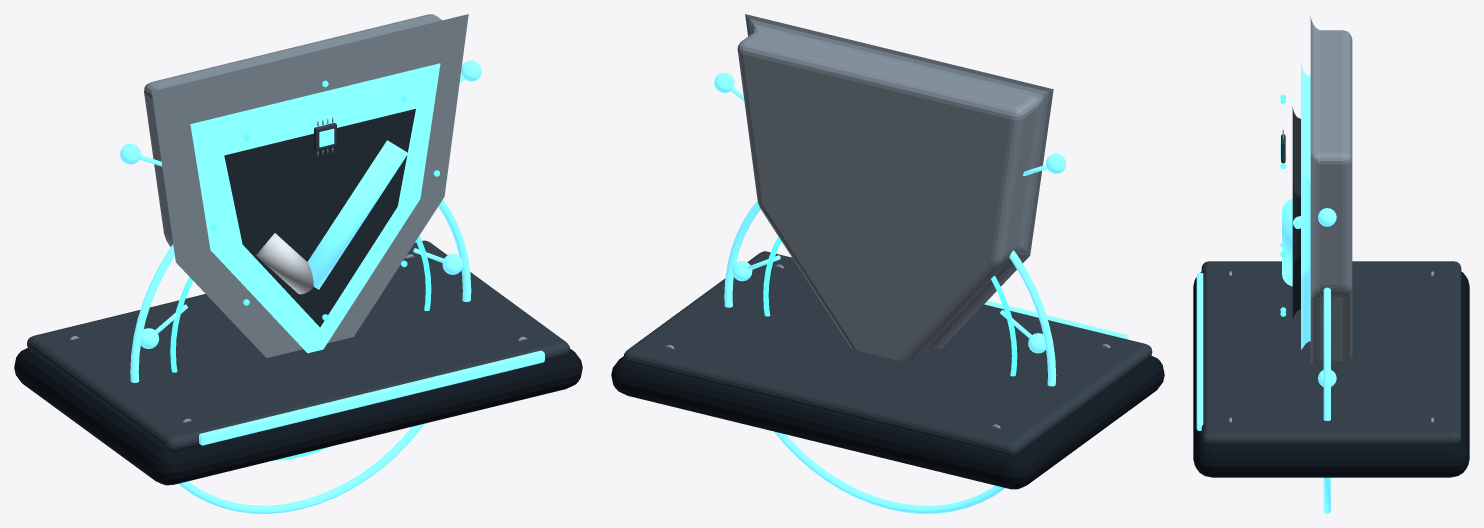
File: Identity.glb
3 views of the same model, side by side, from view 1: azimuth 30°, elevation 25°; view 2: azimuth 150°, elevation 25°; view 3: azimuth 270°, elevation 25° (orthographic). The views are drawn at different scales.
Visible parts, largest first — view 1: Identity_Base1, Identity_Outer, Identity_Mid, Identity_Base0, Identity_Inner, Identity_VerifyRingA, Identity_FrontGlow, Identity_CheckB, Identity_CheckA, Identity_VerifyRingB; view 2: Identity_Outer, Identity_Base1, Identity_Base0, Identity_VerifyRingA, Identity_VerifyRingB, Identity_FrontGlow; view 3: Identity_Base1, Identity_Outer, Identity_Base0, Identity_Mid, Identity_Inner, Identity_VerifyRingA, Identity_FrontGlow, Identity_CheckB.
Part boxes in pixels (x1=…): Identity_Base1: x1=27, y1=240, x2=569, y2=451; Identity_Outer: x1=144, y1=14, x2=468, y2=357; Identity_Mid: x1=190, y1=63, x2=440, y2=353; Identity_Base0: x1=14, y1=348, x2=582, y2=485; Identity_Inner: x1=224, y1=109, x2=415, y2=327; Identity_VerifyRingA: x1=130, y1=199, x2=471, y2=513; Identity_FrontGlow: x1=199, y1=350, x2=544, y2=445; Identity_CheckB: x1=307, y1=140, x2=408, y2=289; Identity_CheckA: x1=256, y1=233, x2=313, y2=294; Identity_VerifyRingB: x1=170, y1=236, x2=431, y2=460; Identity_Outer: x1=737, y1=14, x2=1053, y2=360; Identity_Base1: x1=623, y1=251, x2=1152, y2=456; Identity_Base0: x1=611, y1=355, x2=1164, y2=489; Identity_VerifyRingA: x1=724, y1=201, x2=1056, y2=513; Identity_VerifyRingB: x1=763, y1=236, x2=1017, y2=376; Identity_FrontGlow: x1=791, y1=256, x2=1127, y2=339; Identity_Base1: x1=1201, y1=261, x2=1461, y2=444; Identity_Outer: x1=1310, y1=16, x2=1352, y2=364; Identity_Base0: x1=1193, y1=271, x2=1469, y2=477; Identity_Mid: x1=1301, y1=62, x2=1310, y2=350; Identity_Inner: x1=1292, y1=107, x2=1300, y2=321; Identity_VerifyRingA: x1=1323, y1=287, x2=1330, y2=513; Identity_FrontGlow: x1=1196, y1=272, x2=1203, y2=430; Identity_CheckB: x1=1282, y1=199, x2=1300, y2=286.
Bounding box in the file's own units: 2.12 × 2.18 × 1.32.
